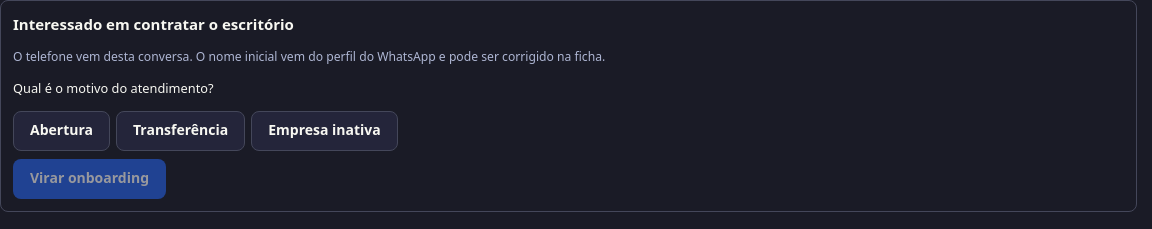
exige origem escolhida e reaproveita criar/PATCH sem mandar origem no PATCH
Expected: the button "Virar onboarding" is disabled, [13,159,166,199]
Click the button "Abertura" at (62, 131), box [13,111,110,151]
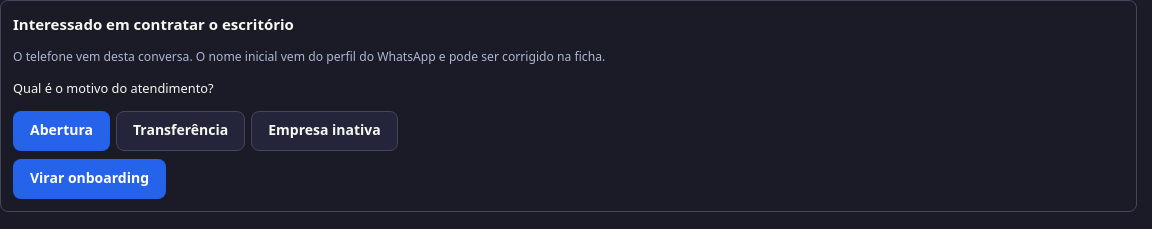
Click the button "Virar onboarding" at (90, 179), box [13,159,166,199]
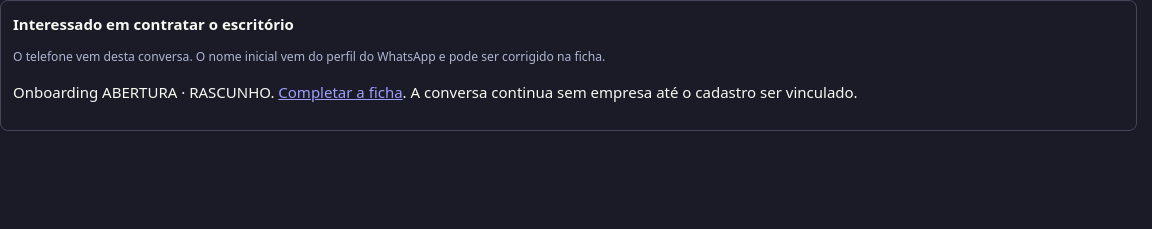
Now the text "A conversa continua sem empresa" is shown, box [403,82,858,102]
